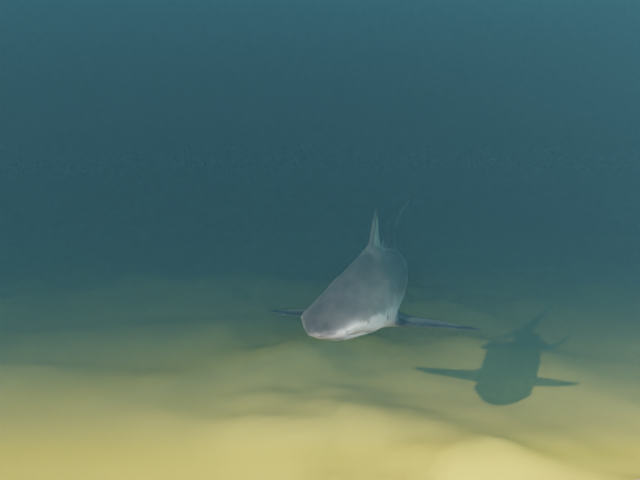Carribean Shark.001: (269, 191, 480, 340)
